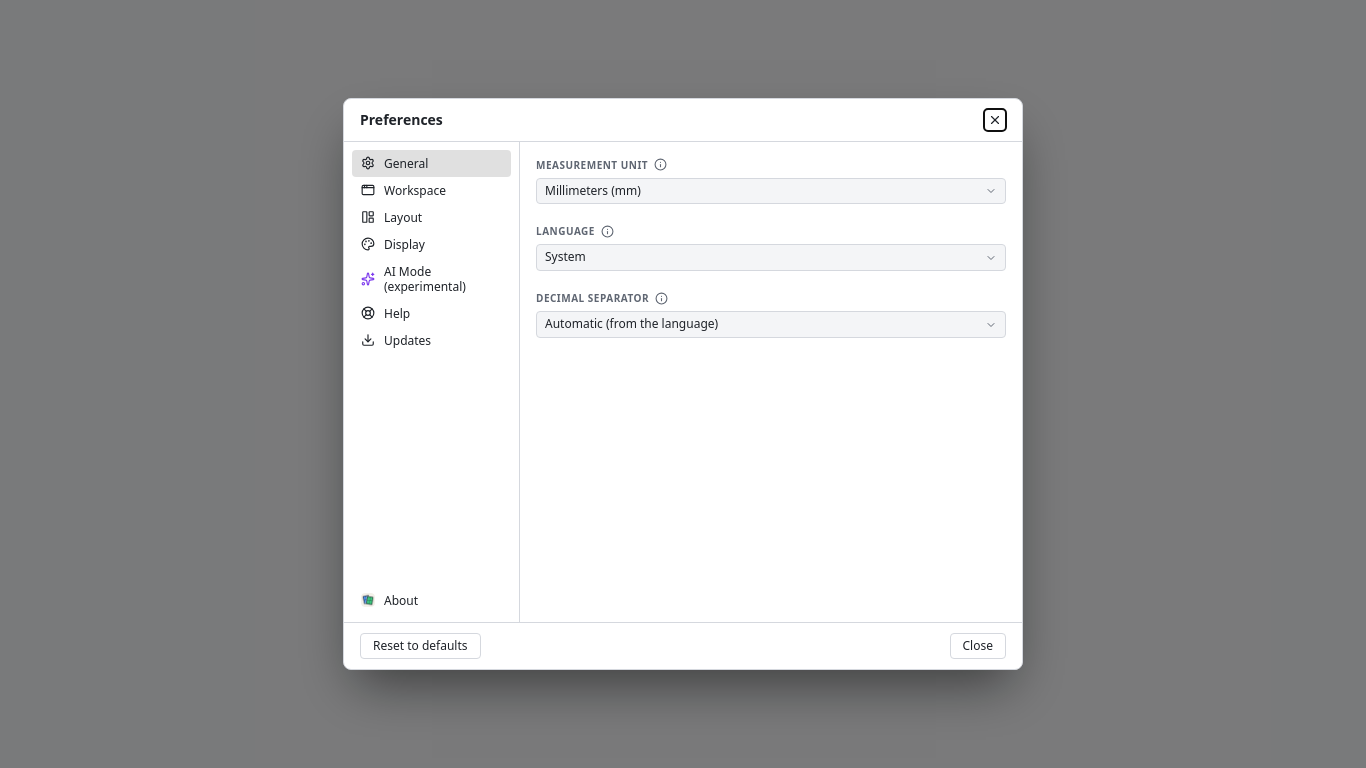
Test: the Preferences sections › marks the open section and switches on click
Click the button "Display" at (432, 244), box [352,231,511,258]
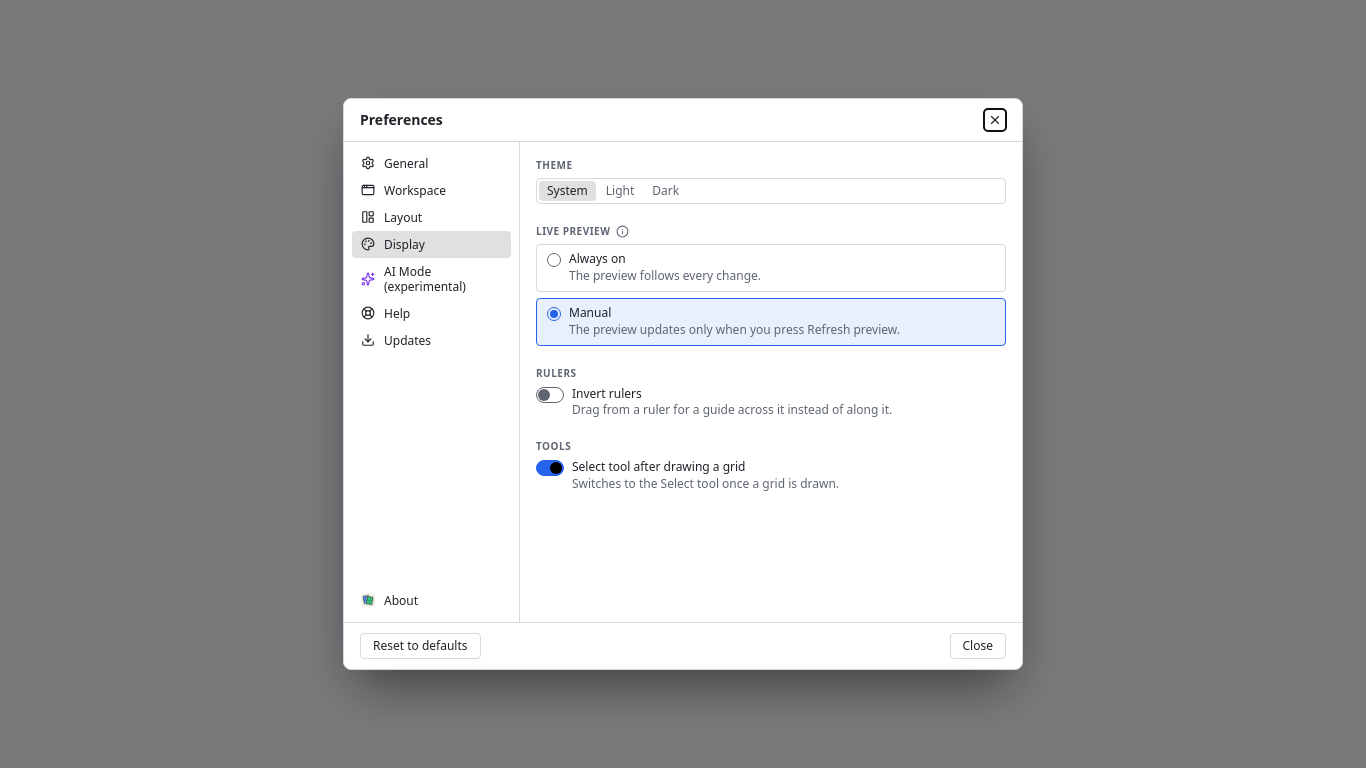
Result: the element named "Theme" is shown at [536,178,1006,204]
